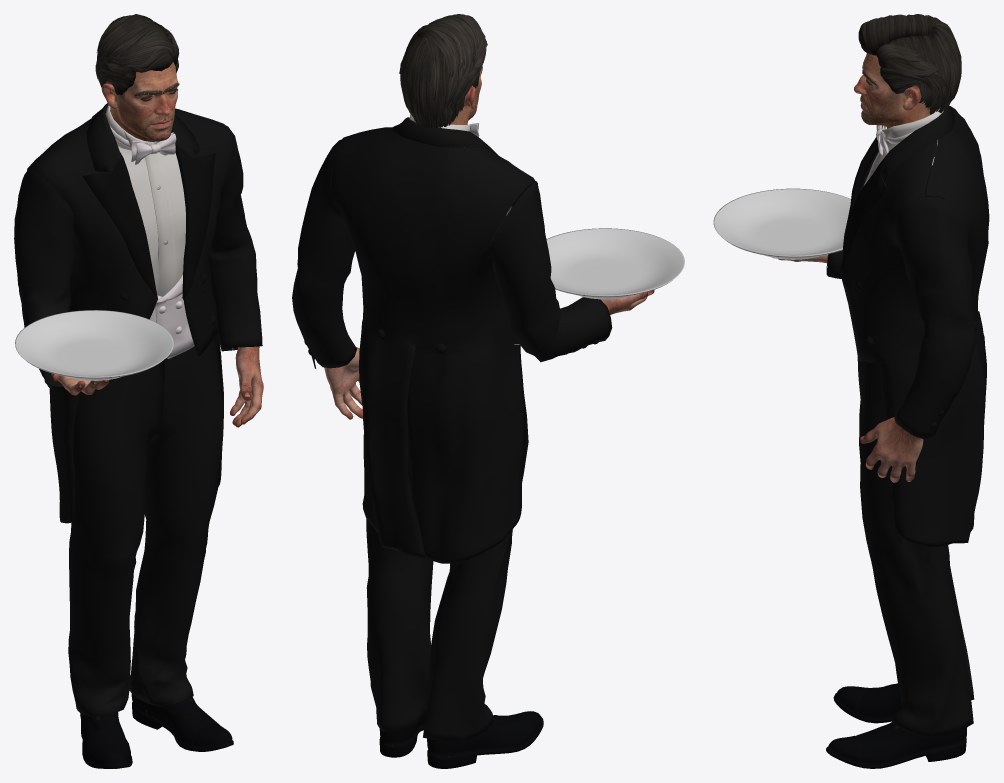
File: NP-panzi.fbx
The picture shows the model from 3 angles, left to right: view 1: azimuth 30°, elevation 25°; view 2: azimuth 150°, elevation 25°; view 3: azimuth 270°, elevation 25°; orthographic projection.
Parts seen in each view (by area): view 1: sm_3_0, sm_1_0, 盘子, sm_5_0, sm_14_0, polySurface20, sm_10_0, polySurface4, polySurface15, sm_2_0, sm_6_0, polySurface2; view 2: sm_1_0, sm_3_0, 盘子, sm_14_0, sm_5_0, polySurface4; view 3: sm_1_0, sm_3_0, 盘子, sm_14_0, sm_5_0, sm_10_0, polySurface4, polySurface19.
Boxes of the visible parts, left/top/right/bottom form: sm_3_0: left=68, top=340, right=222, bottom=716; sm_1_0: left=14, top=103, right=262, bottom=523; 盘子: left=15, top=310, right=173, bottom=380; sm_5_0: left=80, top=694, right=233, bottom=768; sm_14_0: left=95, top=14, right=179, bottom=94; polySurface20: left=145, top=152, right=185, bottom=296; sm_10_0: left=101, top=62, right=178, bottom=148; polySurface4: left=230, top=346, right=263, bottom=427; polySurface15: left=118, top=146, right=159, bottom=295; sm_2_0: left=149, top=273, right=194, bottom=358; sm_6_0: left=110, top=126, right=176, bottom=164; polySurface2: left=51, top=373, right=109, bottom=395; sm_1_0: left=292, top=117, right=612, bottom=563; sm_3_0: left=366, top=344, right=528, bottom=741; 盘子: left=546, top=228, right=684, bottom=299; sm_14_0: left=399, top=14, right=487, bottom=127; sm_5_0: left=379, top=711, right=543, bottom=768; polySurface4: left=324, top=347, right=362, bottom=419; sm_1_0: left=826, top=105, right=989, bottom=546; sm_3_0: left=857, top=353, right=974, bottom=738; 盘子: left=713, top=188, right=850, bottom=259; sm_14_0: left=858, top=14, right=961, bottom=114; sm_5_0: left=826, top=683, right=967, bottom=768; sm_10_0: left=854, top=53, right=936, bottom=128; polySurface4: left=860, top=417, right=923, bottom=482; polySurface19: left=885, top=107, right=943, bottom=143.
Size of the model in its own units: 81.34 by 185 by 64.2.
